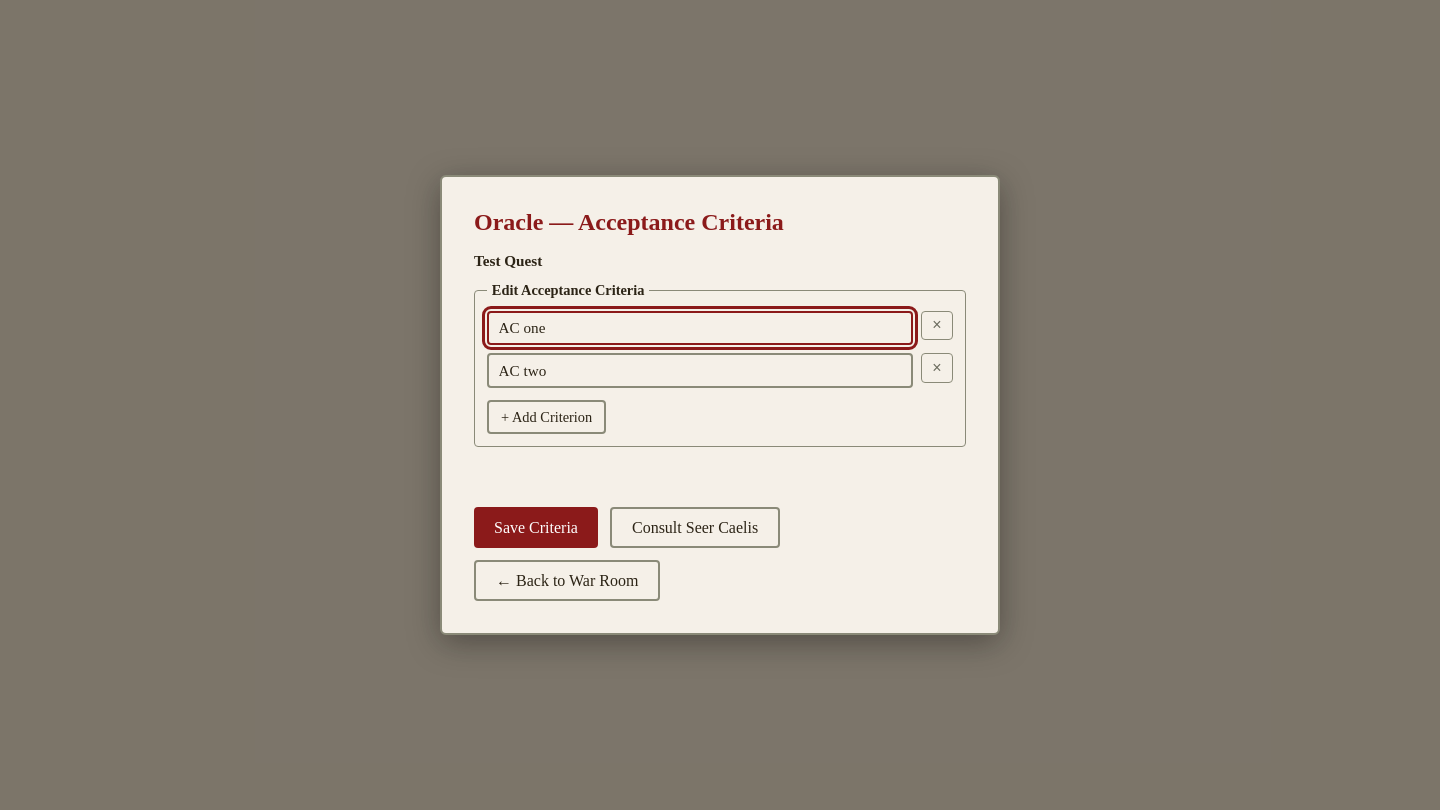
Oracle › shows success message after save
Expected: the field named "criterion 1" is shown, [487,311,913,345]
Step 1. Click the button "Save Criteria" → (536, 528), box [474,507,598,548]
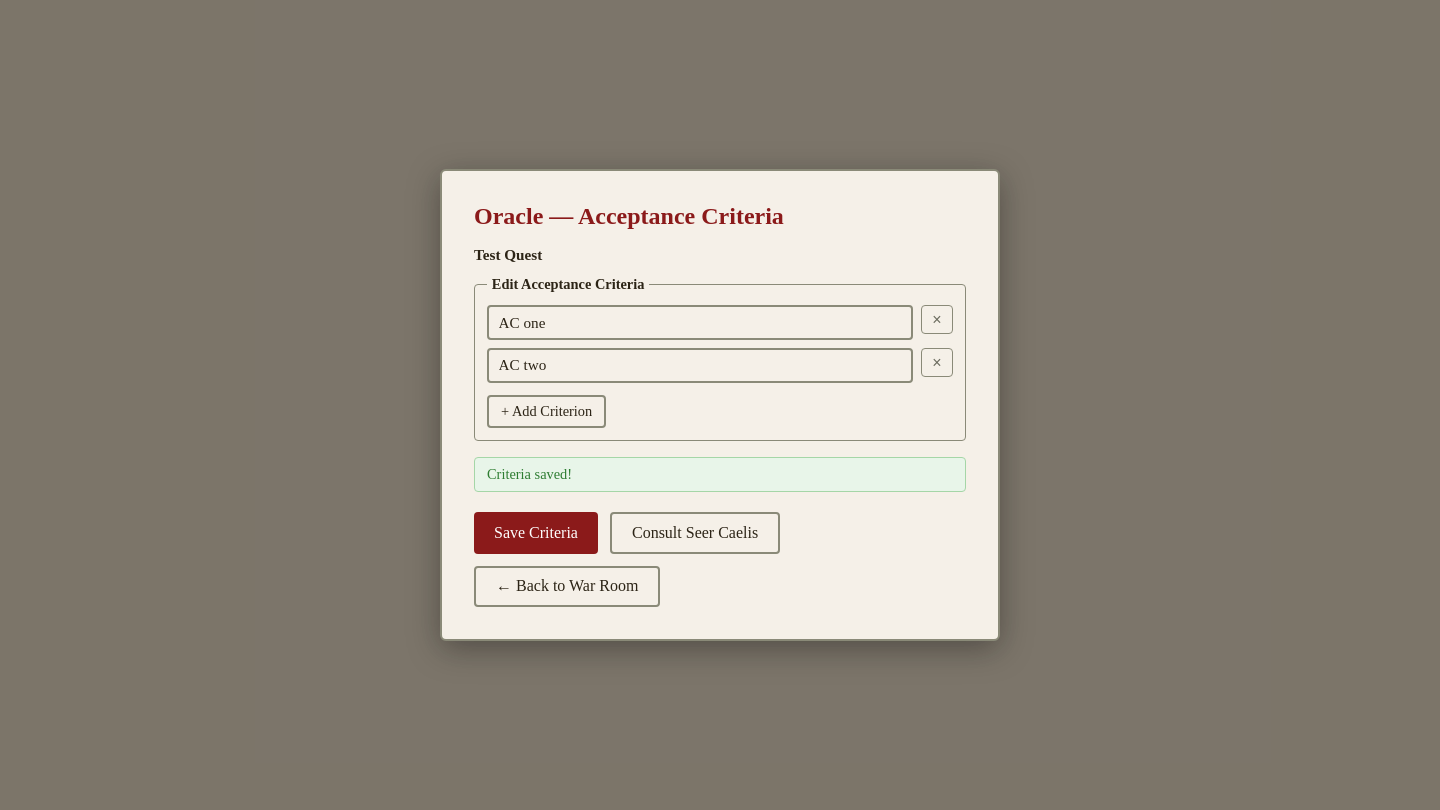
Now the text "Criteria saved!" is shown, box [474,458,966,492]
